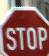Stop sign: (0, 0, 48, 55)
